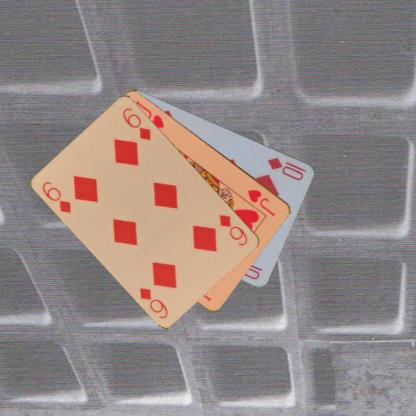10d: (266, 154, 308, 182)
6d: (39, 178, 73, 214), (216, 212, 250, 247)
Jh: (246, 186, 278, 218)
